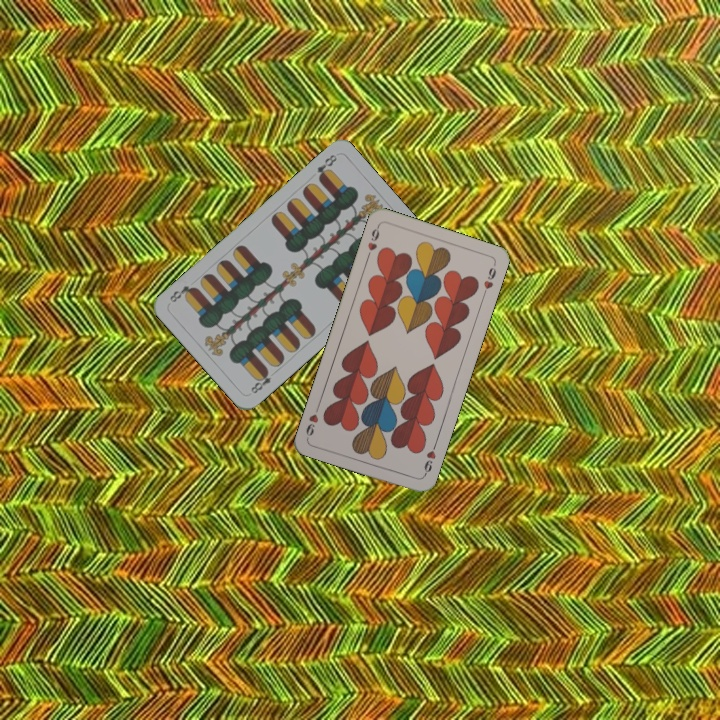E8: (247, 366, 279, 396), (313, 150, 339, 183)
H9: (419, 439, 439, 479), (363, 221, 382, 261)
